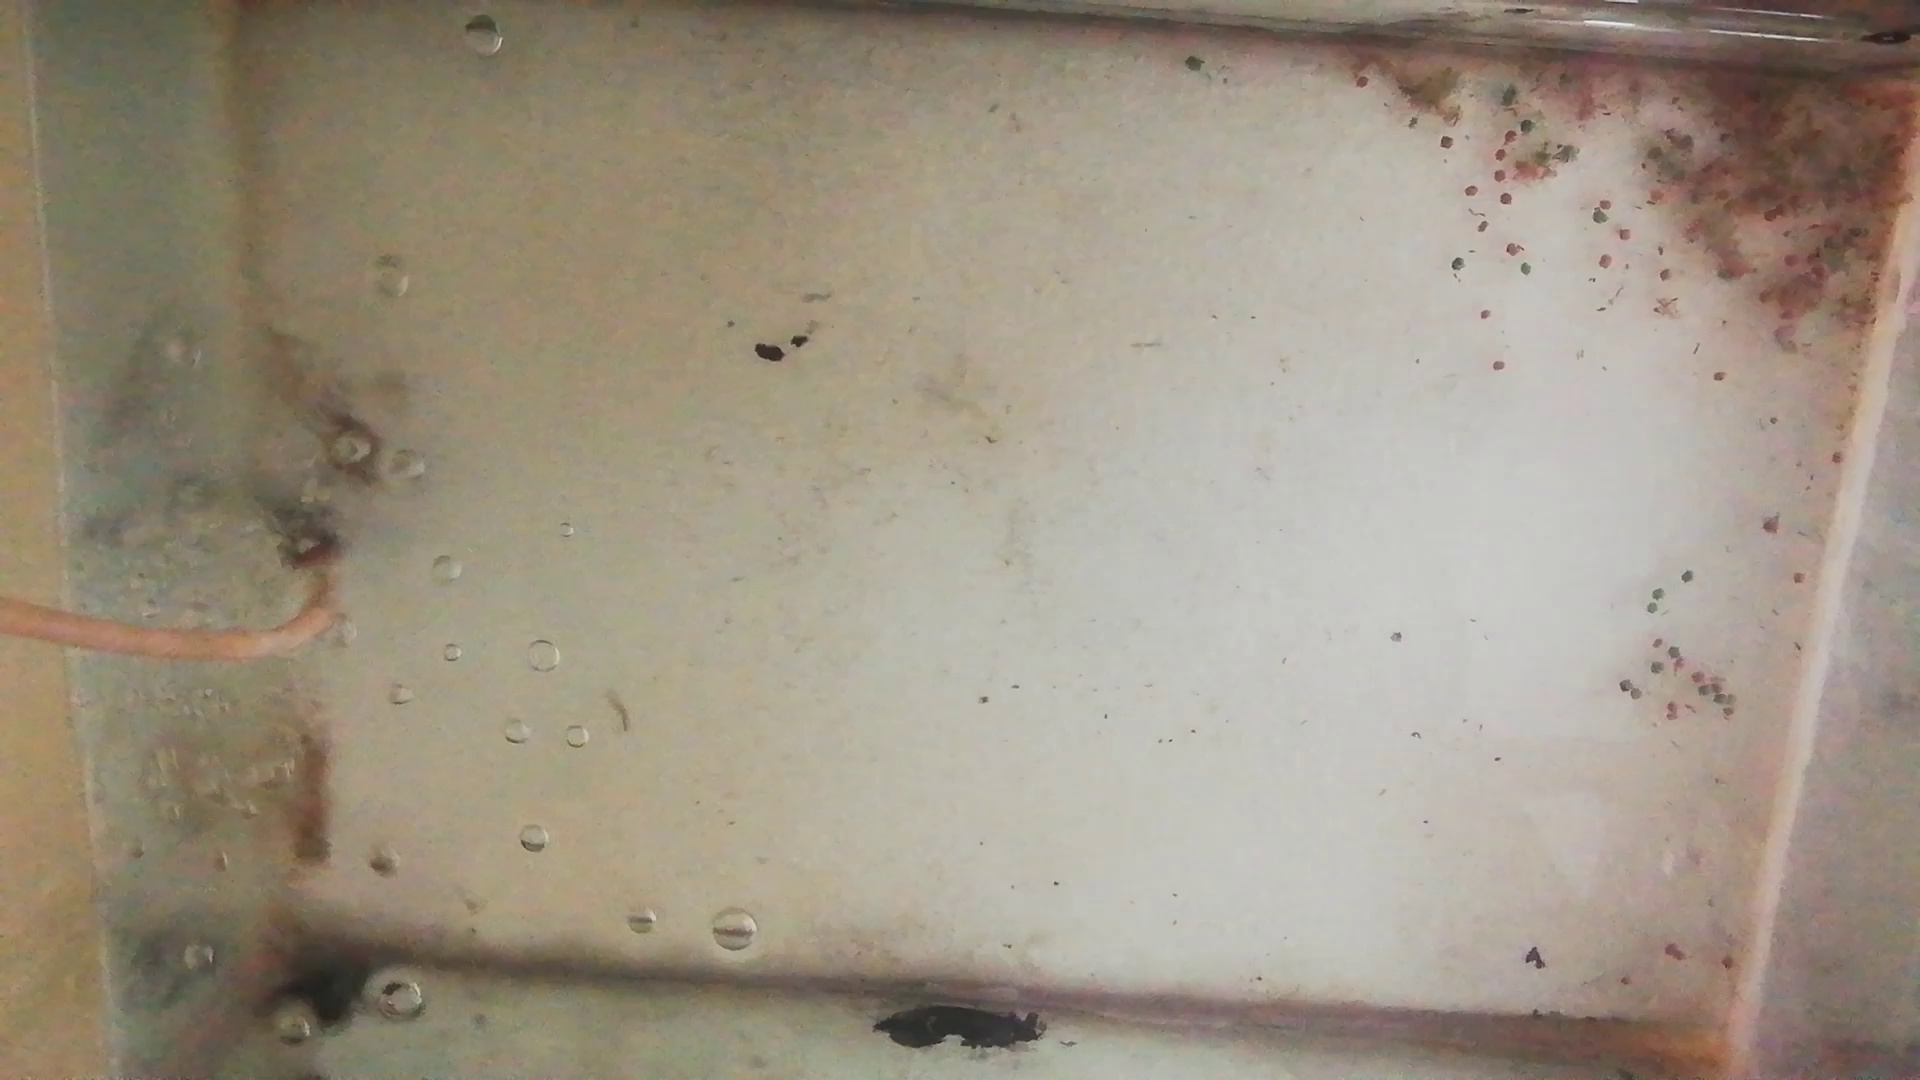fish: (239, 299, 386, 483), (285, 700, 336, 876)
